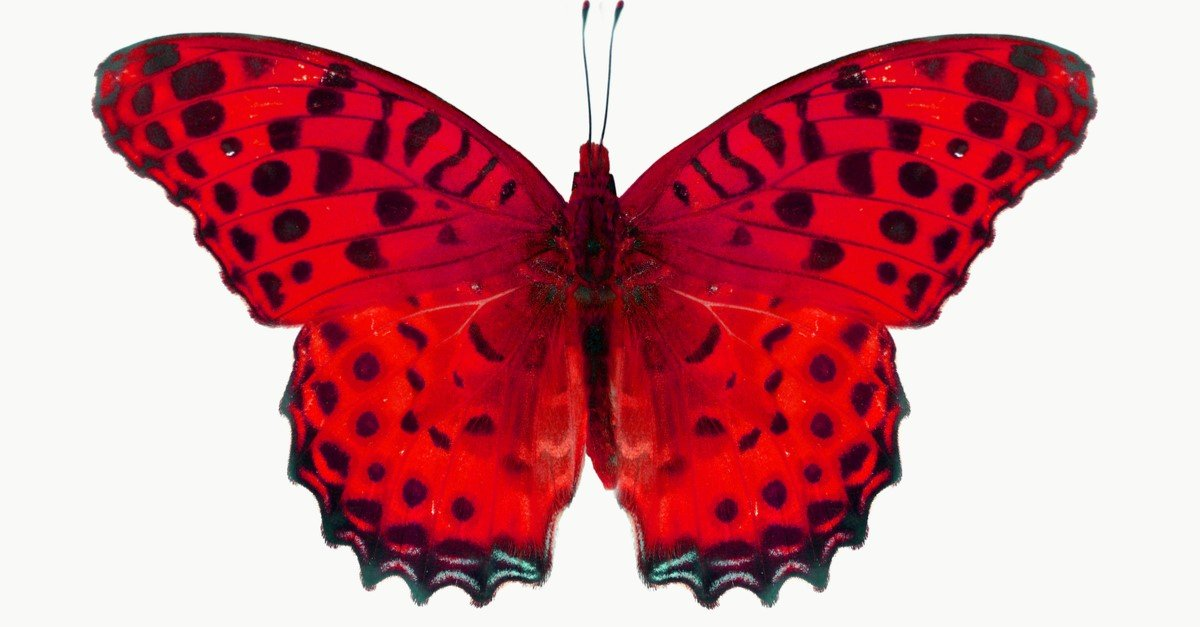kelebek: (81, 4, 1106, 610)
